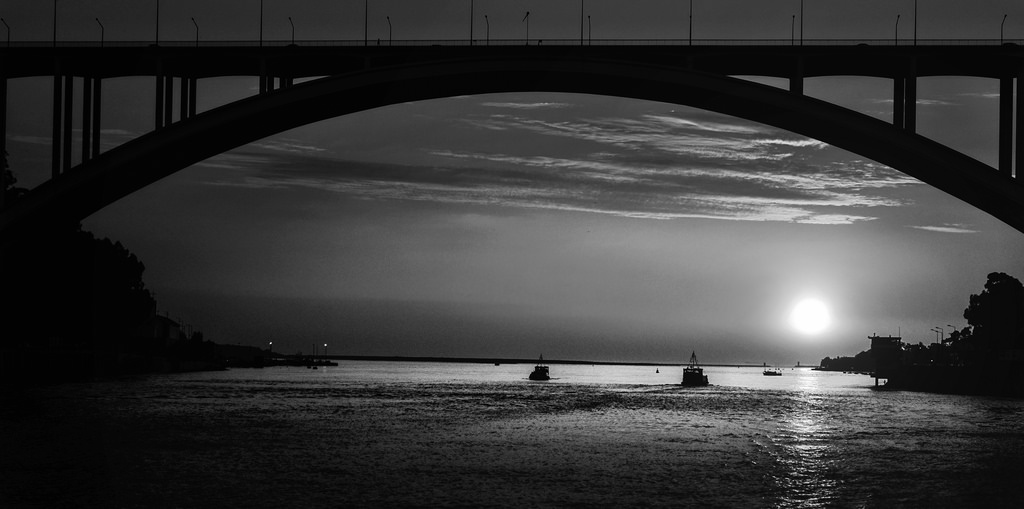arrabida: (0, 39, 1023, 235)
